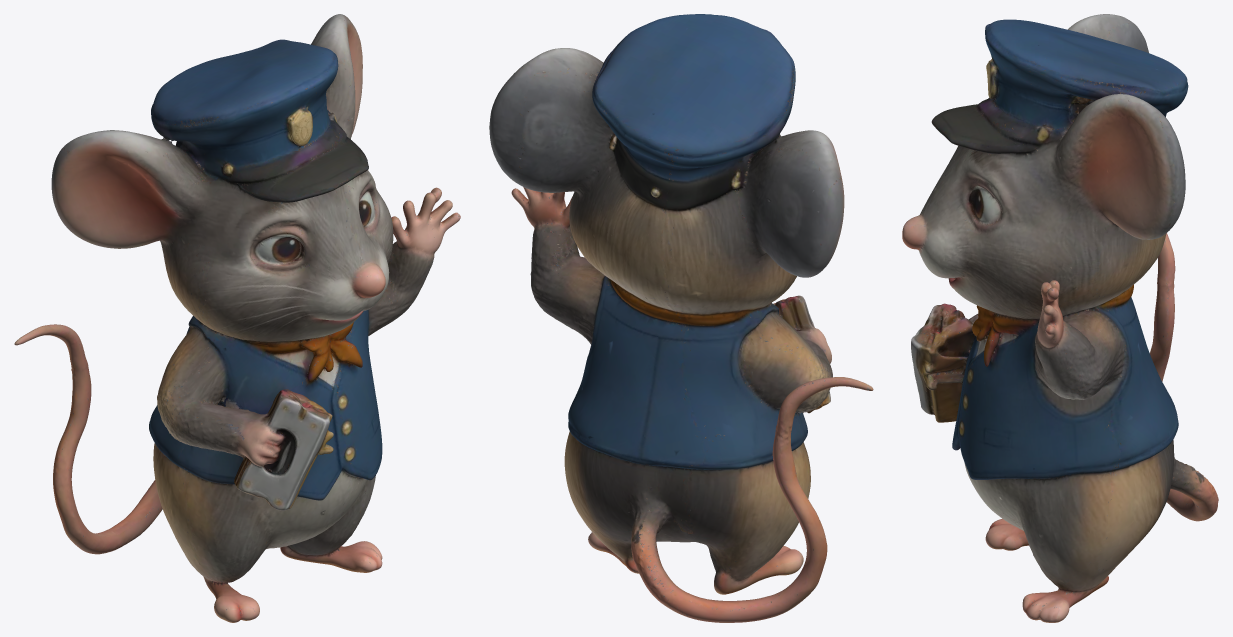
The model's file is marc.glb.
3 views of the same model, side by side, from view 1: azimuth 30°, elevation 25°; view 2: azimuth 150°, elevation 25°; view 3: azimuth 270°, elevation 25° (orthographic). The views are drawn at different scales.
Bounding box in the file's own units: 1.6 × 2 × 1.06.
Materials: 1 (1 with a texture image).
